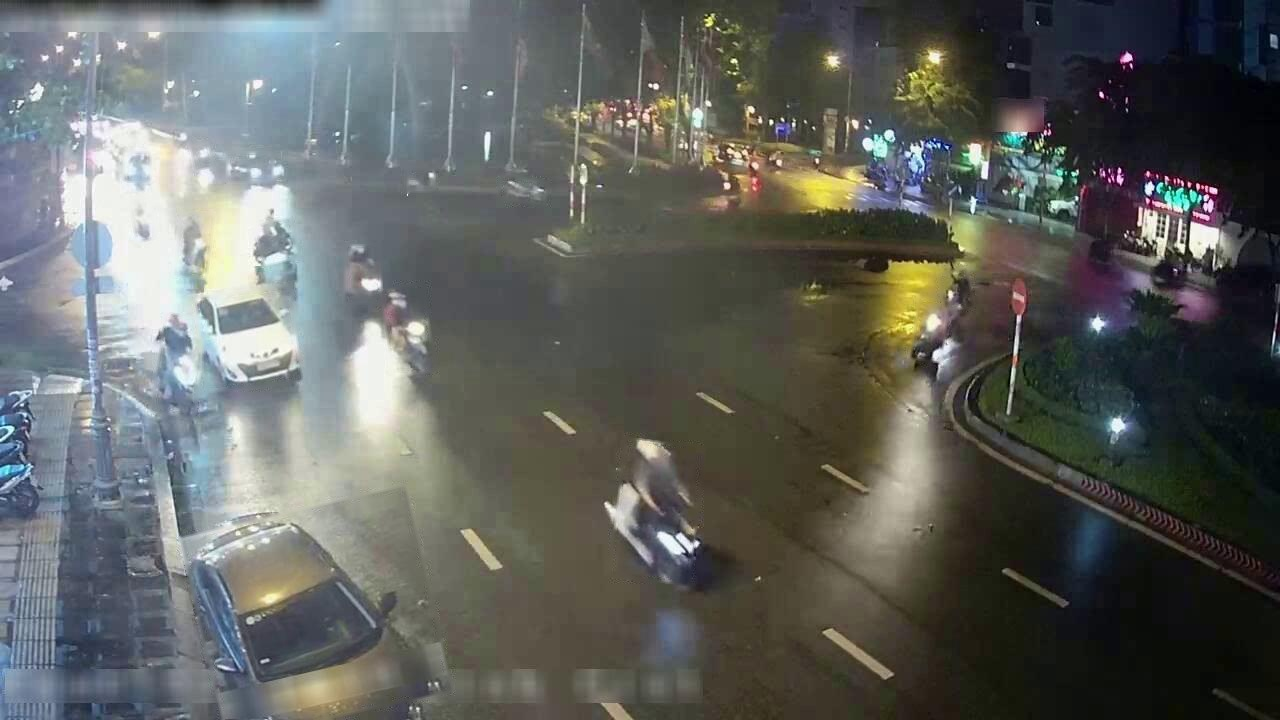Car: (188, 512, 446, 719), (197, 286, 300, 386), (228, 151, 284, 184), (124, 152, 151, 189), (716, 143, 749, 171)
Motorcycle: (603, 438, 704, 586), (0, 463, 39, 517), (394, 320, 431, 376), (0, 426, 28, 464), (0, 442, 27, 466)
Motorcyclist: (155, 313, 206, 416), (344, 244, 382, 303), (911, 306, 948, 365), (253, 219, 293, 264), (181, 216, 208, 278), (505, 175, 545, 202), (945, 271, 972, 310), (404, 170, 438, 197), (133, 202, 151, 241), (194, 146, 212, 167)
Pedestrian: (925, 331, 962, 402)
Sign: (1010, 278, 1027, 316)
